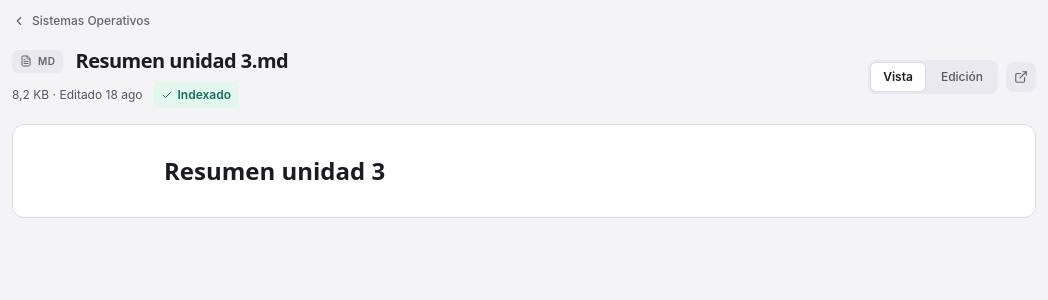
Test case: AttachmentViewerContainer — edición › seeds the draft from the loaded content when entering Edición
The image size is (1048, 300).
Expected: the heading "Resumen unidad 3" is shown, [164,154,385,187]
Click the button "Edición": (962, 77) [928,62,996,92]
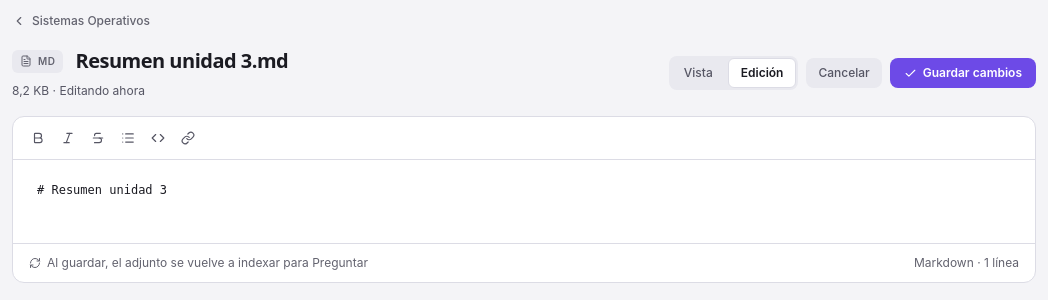
Now the text box named "Editor de markdown" holds "# Resumen unidad 3", box [37,180,1011,223]
